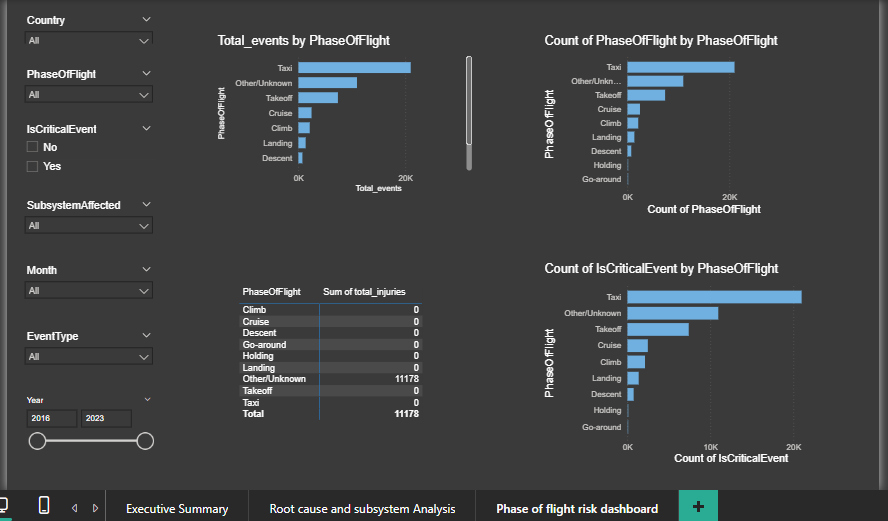

The page's visual inventory and layout, read from the dashboard file:
{"tool":"powerbi","page":{"name":"Phase of flight risk dashboard","canvas":[1280,720],"ordinal":2},"visuals":[{"type":"barChart","fields":{"Category":["source_file.PhaseOfFlight"],"Y":["source_file.Total_events"]},"box":[304,48,384,240],"z":0},{"type":"clusteredBarChart","fields":{"Category":["source_file.PhaseOfFlight"],"Y":["CountNonNull(source_file.IsCriticalEvent)"]},"box":[784,384,448,304],"z":1000},{"type":"clusteredBarChart","fields":{"Y":["CountNonNull(source_file.PhaseOfFlight)"],"Category":["source_file.PhaseOfFlight"]},"box":[784,48,368,272],"z":2000},{"type":"slicer","fields":{"Values":["source_file.Country"]},"box":[16,16,208,48],"z":3000},{"type":"slicer","fields":{"Values":["source_file.PhaseOfFlight"]},"box":[16,96,208,80],"z":4000},{"type":"slicer","fields":{"Values":["source_file.IsCriticalEvent"]},"box":[16,176,208,112],"z":5000},{"type":"slicer","fields":{"Values":["source_file.SubsystemAffected"]},"box":[16,288,208,64],"z":6000},{"type":"slicer","fields":{"Values":["FactSafetyEvent.CreatedAt.Variation.Date Hierarchy.Month"]},"box":[16,384,208,80],"z":7000},{"type":"slicer","fields":{"Values":["source_file.EventDate.Variation.Date Hierarchy.Year"]},"box":[16,576,208,112],"z":8000},{"type":"slicer","fields":{"Values":["source_file.EventType"]},"box":[16,480,208,64],"z":9000},{"type":"pivotTable","fields":{"Rows":["DimPhaseOfFlight.PhaseOfFlight"],"Values":["Sum(source_file.total_injuries)"]},"box":[336,416,288,208],"z":10000}]}

Visuals, with their boxes on the page's 1280x720 design canvas (x1, y1, x2, y2). These are canvas units, not pixel positions in the 888x521 screenshot, which may show the page scaled, cropped or inside an application window:
barChart - source_file.PhaseOfFlight x source_file.Total_events: [304,48,688,288]
clusteredBarChart - source_file.PhaseOfFlight x CountNonNull(source_file.IsCriticalEvent): [784,384,1232,688]
clusteredBarChart - CountNonNull(source_file.PhaseOfFlight) x source_file.PhaseOfFlight: [784,48,1152,320]
slicer - source_file.Country: [16,16,224,64]
slicer - source_file.PhaseOfFlight: [16,96,224,176]
slicer - source_file.IsCriticalEvent: [16,176,224,288]
slicer - source_file.SubsystemAffected: [16,288,224,352]
slicer - FactSafetyEvent.CreatedAt.Variation.Date Hierarchy.Month: [16,384,224,464]
slicer - source_file.EventDate.Variation.Date Hierarchy.Year: [16,576,224,688]
slicer - source_file.EventType: [16,480,224,544]
pivotTable - DimPhaseOfFlight.PhaseOfFlight x Sum(source_file.total_injuries): [336,416,624,624]
